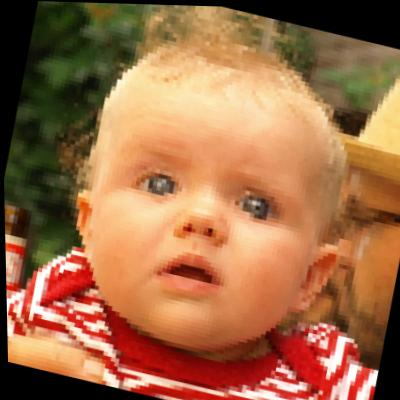surprise: (56, 40, 358, 366)
